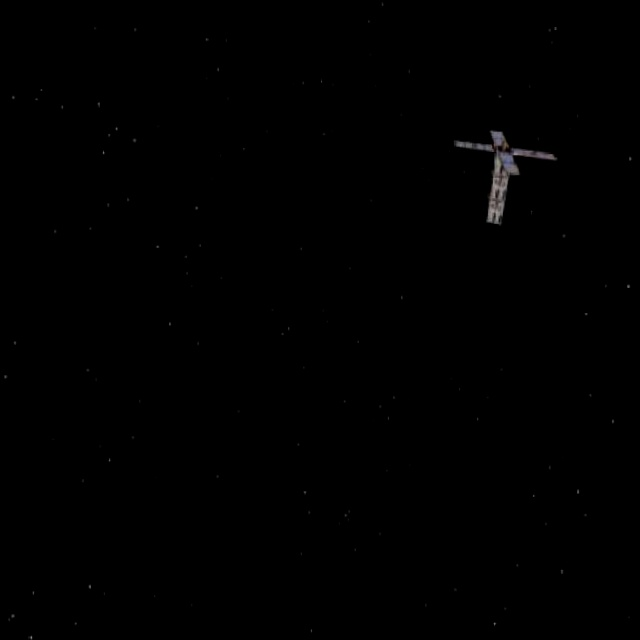medium_debris: (438, 127, 559, 235)
